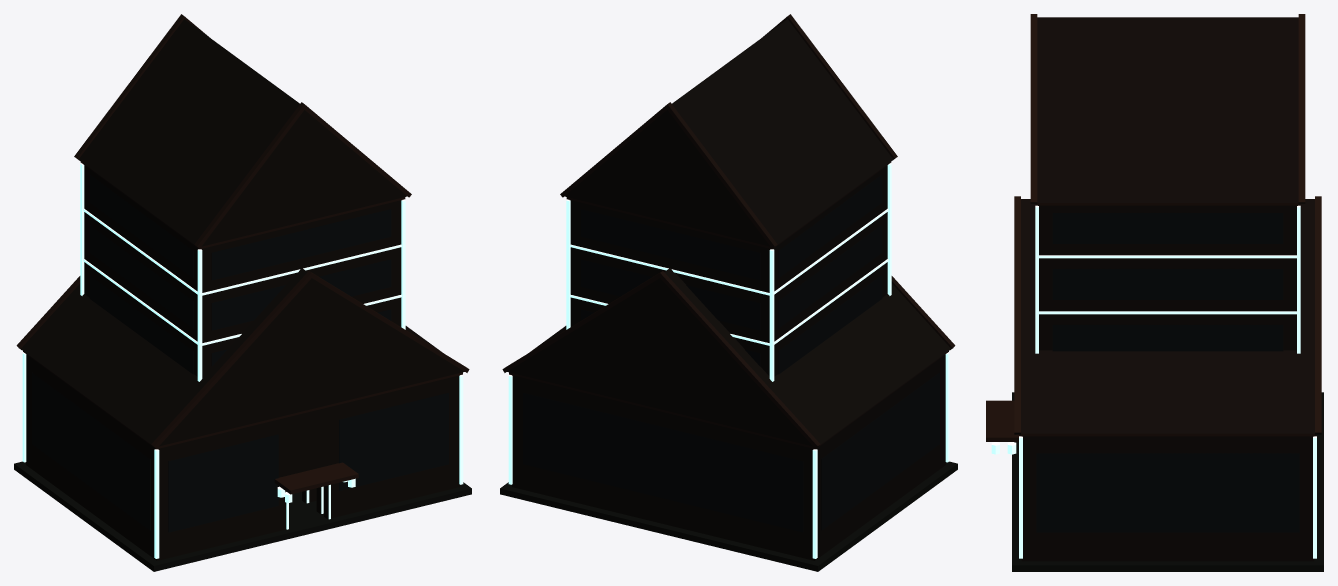
The model's file is shaddai_realm_buildings_forest_v01.glb.
3 renders of one model, left to right at view 1: azimuth 30°, elevation 25°; view 2: azimuth 150°, elevation 25°; view 3: azimuth 270°, elevation 25°, orthographic. The views are drawn at different scales.
Visible parts, largest first — view 1: shaddai_bld_forest_hall, shaddai_bld_forest_tower; view 2: shaddai_bld_forest_hall, shaddai_bld_forest_tower; view 3: shaddai_bld_forest_tower, shaddai_bld_forest_hall.
Boxes of the visible parts, x1,y1,x2,y2 form: shaddai_bld_forest_hall: (14,268,471,571); shaddai_bld_forest_tower: (74,14,411,513); shaddai_bld_forest_hall: (500,268,957,571); shaddai_bld_forest_tower: (560,14,897,381); shaddai_bld_forest_tower: (1002,14,1305,454); shaddai_bld_forest_hall: (986,196,1323,571).
Bounding box in the file's own units: 25.2 × 32.02 × 20.8.
